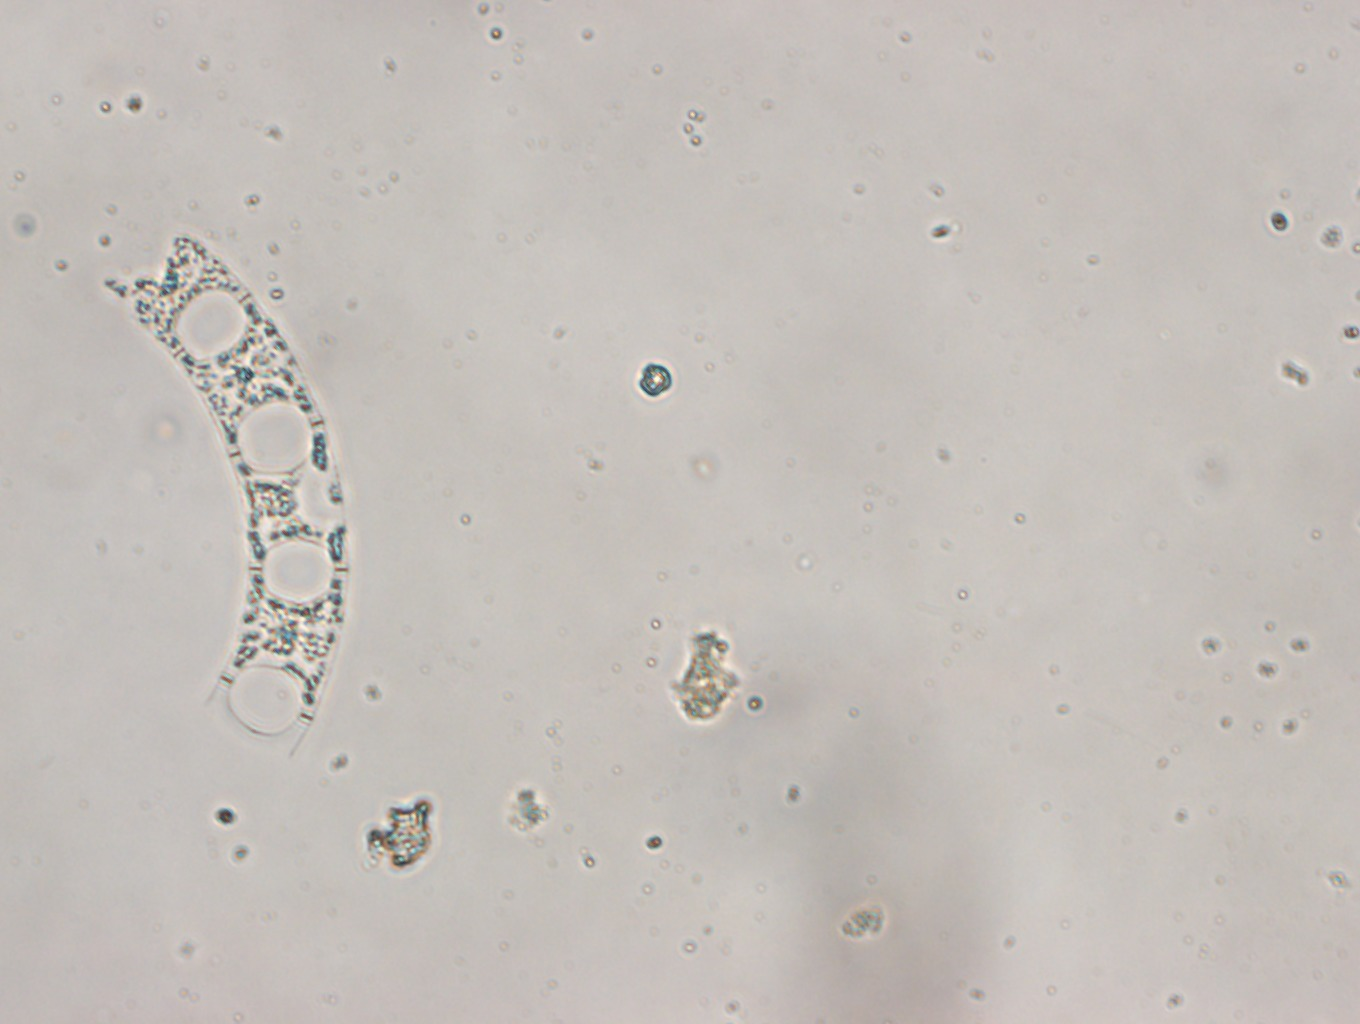eucampia: (132, 234, 350, 760)
